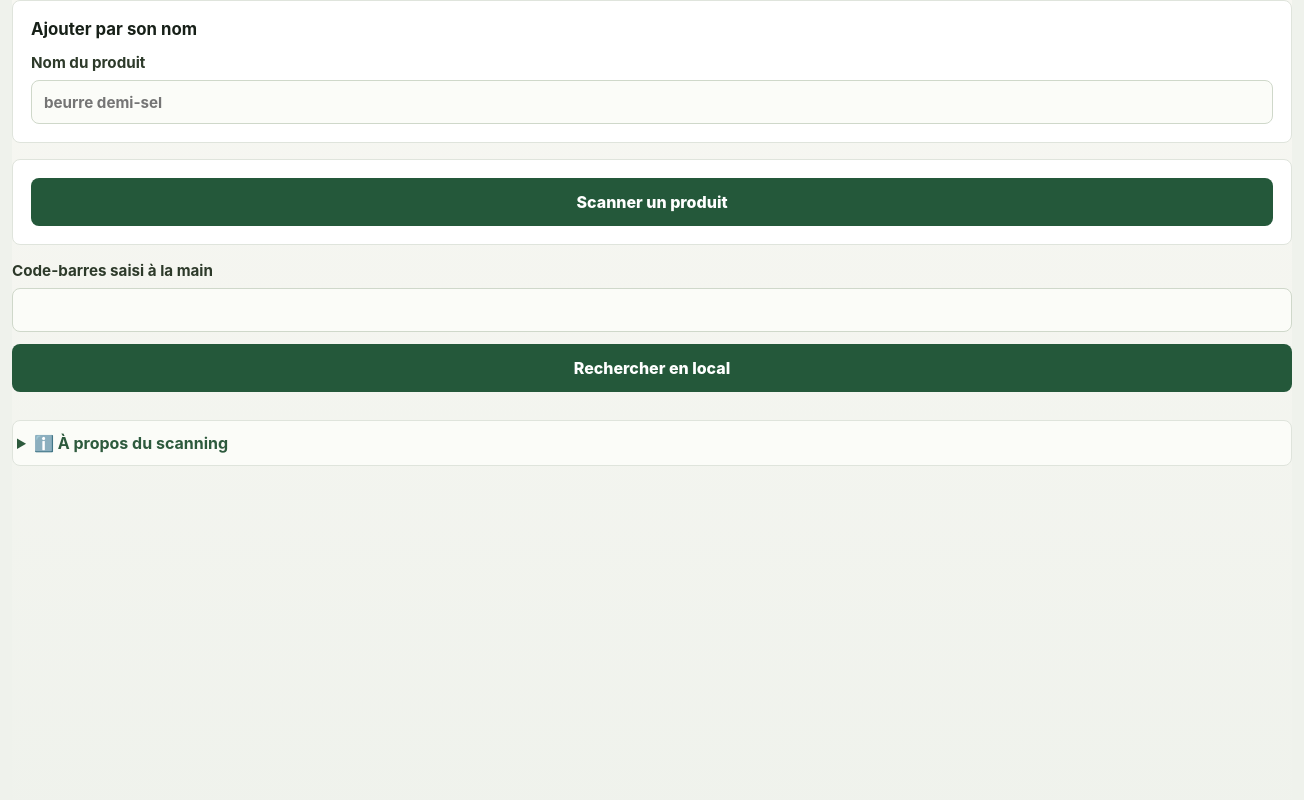
Scenario: ScanPage — ajout par le nom du produit › propose un produit connu dès les premières lettres et l ajoute sans appel réseau
Type "riz" into the search field labelled "Nom du produit" at (652, 102), box [31,80,1273,124]
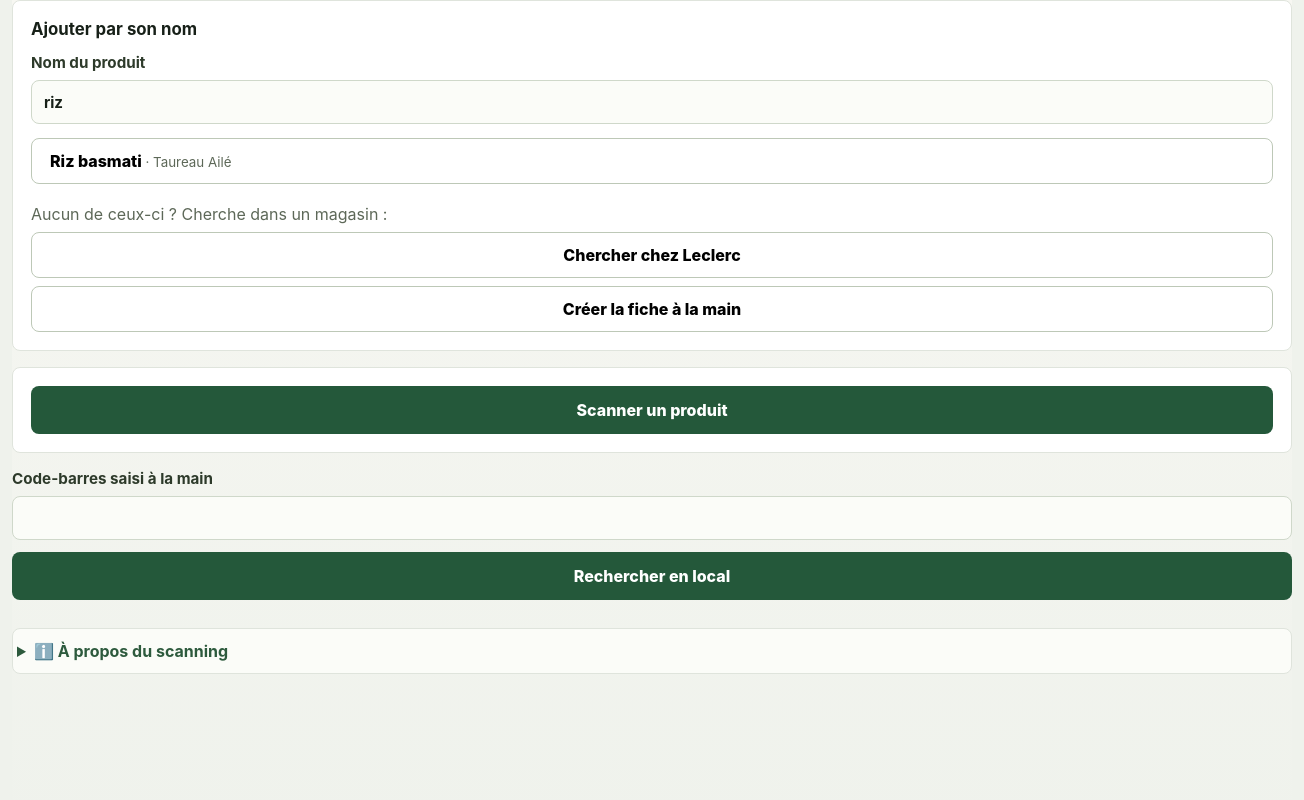
Click the button "Riz basmati · Taureau Ailé" at (96, 161), box [31,138,1273,184]
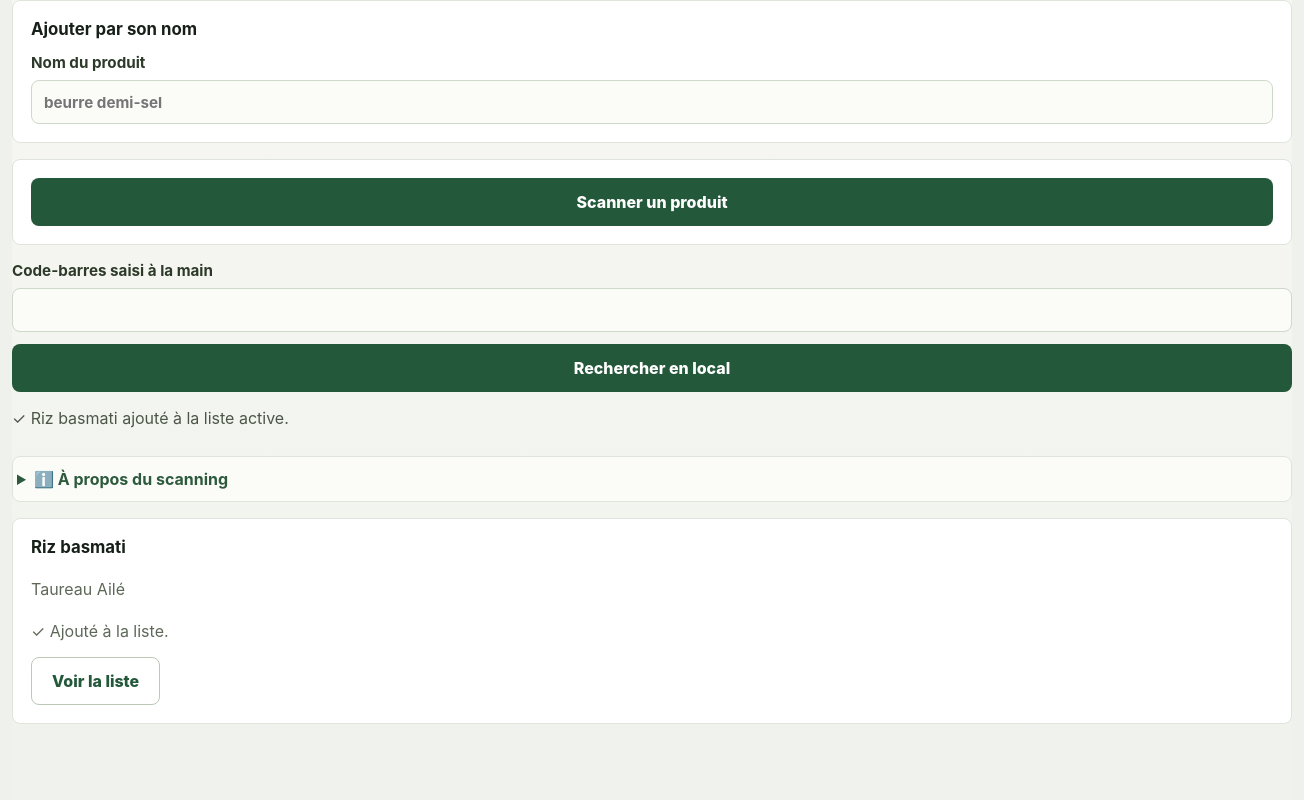
expect the text "✓ Riz basmati ajouté à la liste active." is shown: met, box [12,408,289,428]
